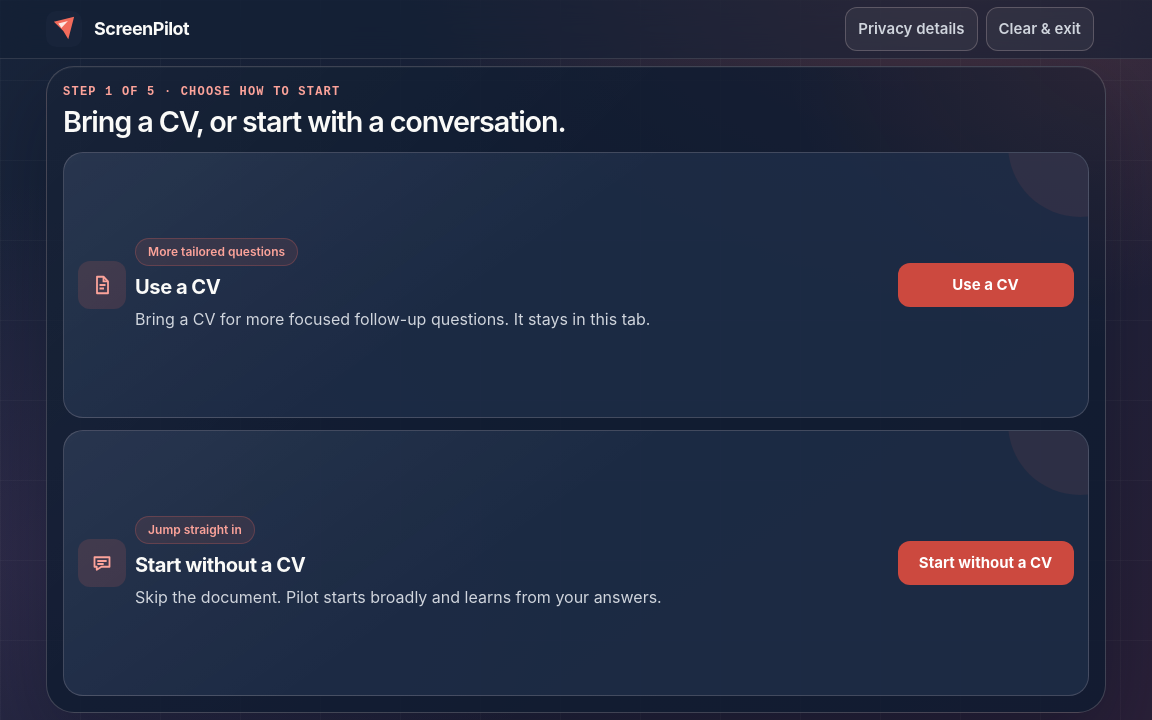
Test: DemoExperience preparation paths › shows a truthful slow transition and aborts when Back is used
Click the button "Start without a CV": (986, 563) [898,541,1074,585]
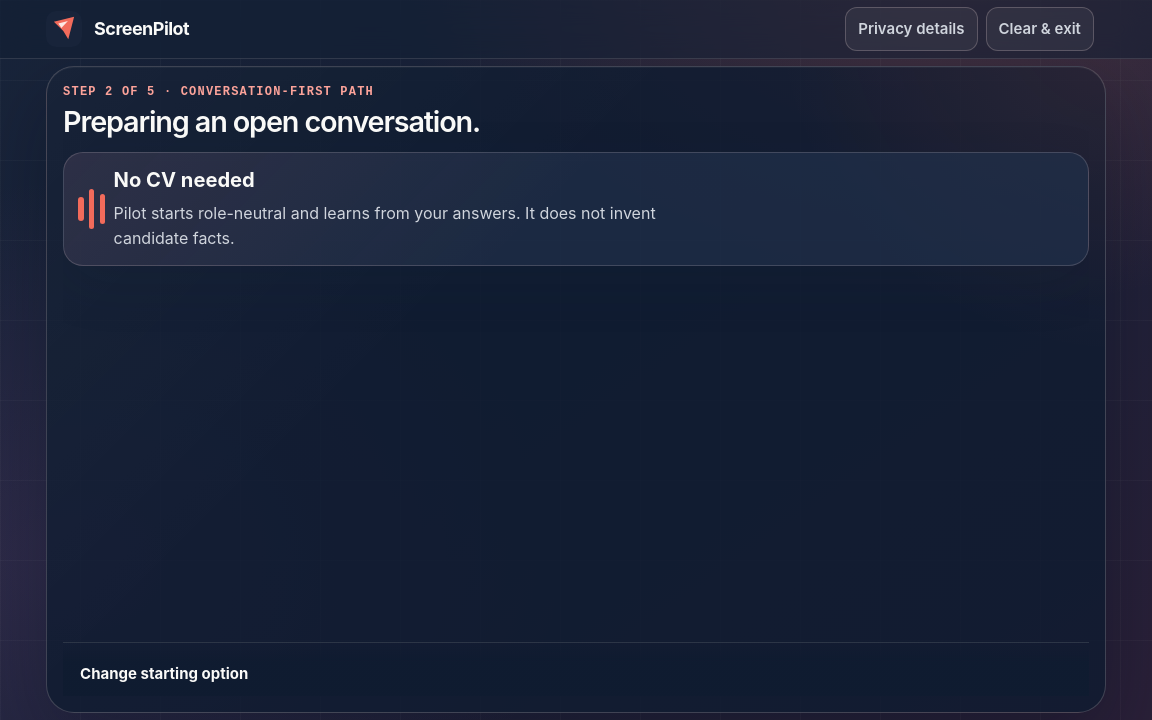
expect the button "Privacy details" is enabled: met, box [845,7,978,51]
expect the heading "Preparing an open conversation." is shown: met, box [63,104,480,139]
expect the text "Step 2 of 5 · Conversation-first path" is shown: met, box [63,85,374,99]
Click the button "Change starting option": (164, 674) [63,652,265,696]
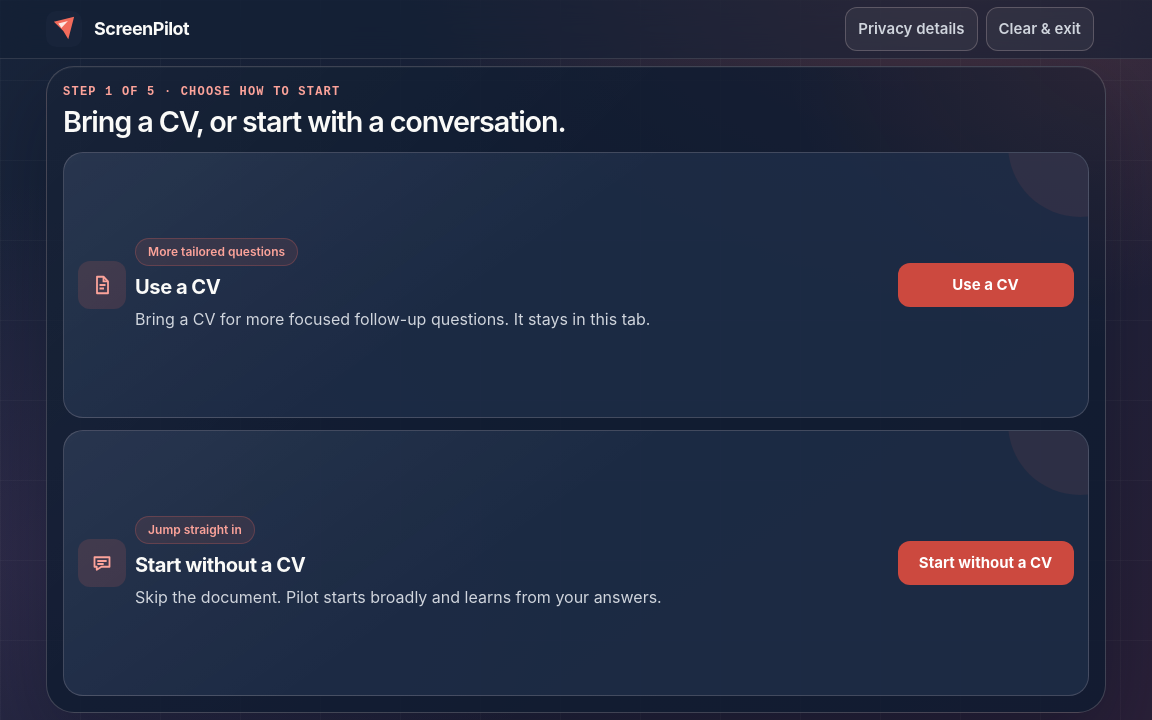
expect the heading "Bring a CV, or start with a conversation." is shown: met, box [63,104,566,139]
